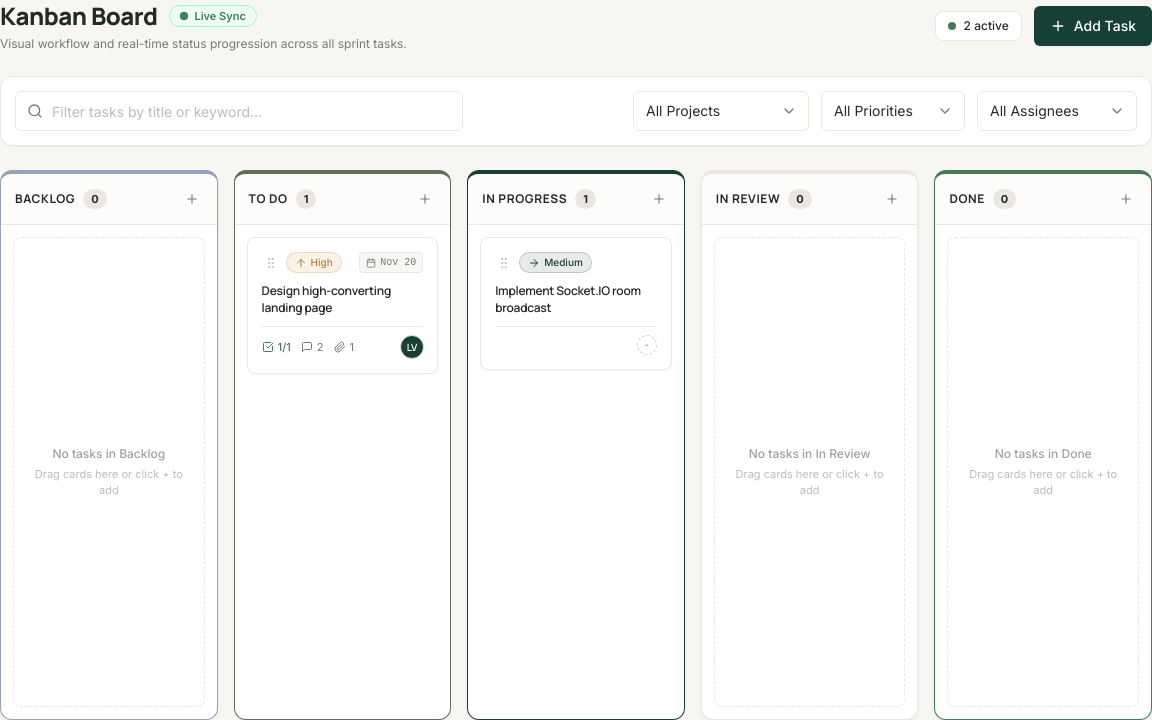
Test: Stage 07: Kanban Board & Real-Time Collaboration › opens Create Task modal when Add Task button is clicked
Click the button "Add Task" at (1093, 26), box [1034, 6, 1151, 46]
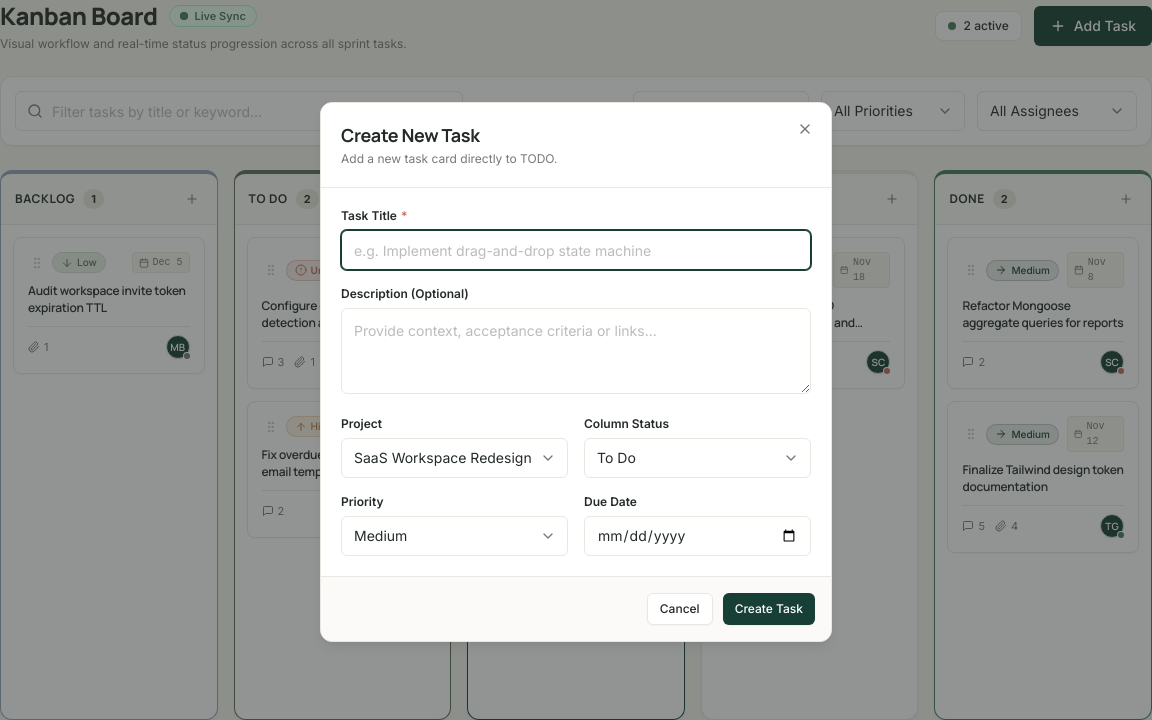
Result: the heading "Create New Task" is shown at [341, 123, 480, 147]
Result: the field labelled "Task Title*" is shown at [341, 230, 811, 270]
